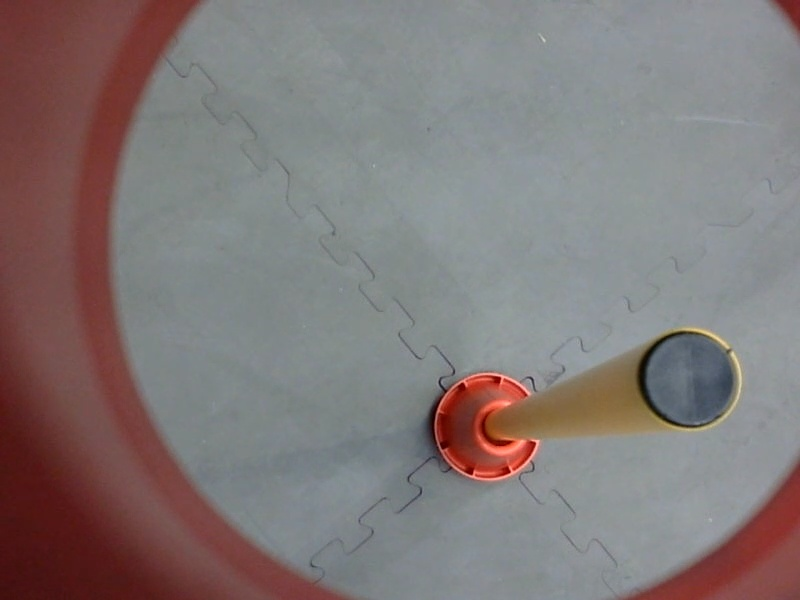tip: (633, 322, 748, 437)
